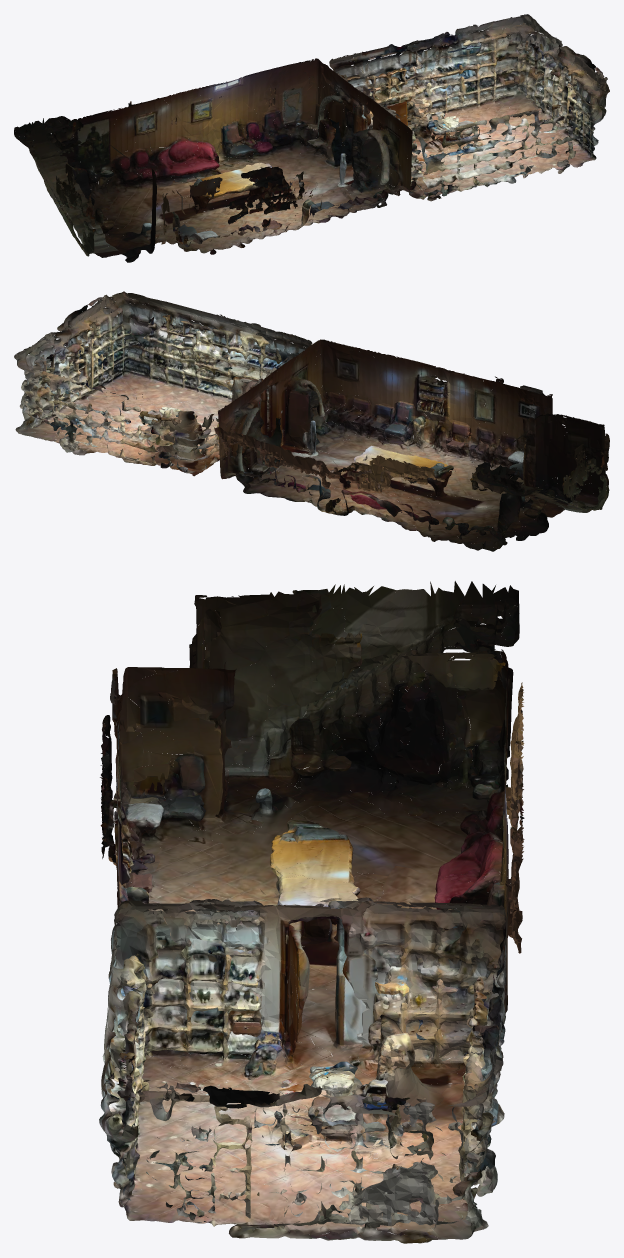
File: esc_sotanos_muros_07.glb
3 views of the same model, one above another, from view 1: azimuth 30°, elevation 25°; view 2: azimuth 150°, elevation 25°; view 3: azimuth 270°, elevation 25° (orthographic). The views are drawn at different scales.
Visible parts, largest first — view 1: muros_Apartamento_y_bodega_7_GLTF_11, muros_Apartamento_y_bodega_7_GLTF_10, muros_Apartamento_y_bodega_7_GLTF_4, muros_Apartamento_y_bodega_7_GLTF_9, muros_Apartamento_y_bodega_7_GLTF_6, muros_Apartamento_y_bodega_7_GLTF_2, muros_Apartamento_y_bodega_7_GLTF_5, muros_Apartamento_y_bodega_7_GLTF_7, muros_Apartamento_y_bodega_7_GLTF_1, muros_Apartamento_y_bodega_7_GLTF_3, muros_Apartamento_y_bodega_7_GLTF_8, muros_Apartamento_y_bodega_7_GLTF; view 2: muros_Apartamento_y_bodega_7_GLTF_11, muros_Apartamento_y_bodega_7_GLTF_10, muros_Apartamento_y_bodega_7_GLTF_9, muros_Apartamento_y_bodega_7_GLTF_3, muros_Apartamento_y_bodega_7_GLTF_6, muros_Apartamento_y_bodega_7_GLTF_7, muros_Apartamento_y_bodega_7_GLTF_2, muros_Apartamento_y_bodega_7_GLTF_4, muros_Apartamento_y_bodega_7_GLTF_1, muros_Apartamento_y_bodega_7_GLTF, muros_Apartamento_y_bodega_7_GLTF_5, muros_Apartamento_y_bodega_7_GLTF_8; view 3: muros_Apartamento_y_bodega_7_GLTF_11, muros_Apartamento_y_bodega_7_GLTF_10, muros_Apartamento_y_bodega_7_GLTF_4, muros_Apartamento_y_bodega_7_GLTF_6, muros_Apartamento_y_bodega_7_GLTF_9, muros_Apartamento_y_bodega_7_GLTF_3, muros_Apartamento_y_bodega_7_GLTF_7, muros_Apartamento_y_bodega_7_GLTF_8, muros_Apartamento_y_bodega_7_GLTF_2, muros_Apartamento_y_bodega_7_GLTF, muros_Apartamento_y_bodega_7_GLTF_5, muros_Apartamento_y_bodega_7_GLTF_1.
Boxes of the visible parts, left/top/right/bottom form: muros_Apartamento_y_bodega_7_GLTF_11: left=14, top=14, right=606, bottom=262; muros_Apartamento_y_bodega_7_GLTF_10: left=14, top=36, right=598, bottom=256; muros_Apartamento_y_bodega_7_GLTF_4: left=30, top=35, right=607, bottom=247; muros_Apartamento_y_bodega_7_GLTF_9: left=25, top=44, right=609, bottom=254; muros_Apartamento_y_bodega_7_GLTF_6: left=68, top=37, right=580, bottom=244; muros_Apartamento_y_bodega_7_GLTF_2: left=26, top=16, right=600, bottom=251; muros_Apartamento_y_bodega_7_GLTF_5: left=14, top=22, right=601, bottom=251; muros_Apartamento_y_bodega_7_GLTF_7: left=49, top=31, right=586, bottom=246; muros_Apartamento_y_bodega_7_GLTF_1: left=27, top=21, right=604, bottom=243; muros_Apartamento_y_bodega_7_GLTF_3: left=25, top=17, right=596, bottom=249; muros_Apartamento_y_bodega_7_GLTF_8: left=60, top=18, right=589, bottom=257; muros_Apartamento_y_bodega_7_GLTF: left=60, top=40, right=606, bottom=253; muros_Apartamento_y_bodega_7_GLTF_11: left=14, top=294, right=609, bottom=550; muros_Apartamento_y_bodega_7_GLTF_10: left=15, top=312, right=609, bottom=544; muros_Apartamento_y_bodega_7_GLTF_9: left=28, top=291, right=591, bottom=534; muros_Apartamento_y_bodega_7_GLTF_3: left=48, top=298, right=604, bottom=527; muros_Apartamento_y_bodega_7_GLTF_6: left=26, top=321, right=568, bottom=548; muros_Apartamento_y_bodega_7_GLTF_7: left=20, top=317, right=588, bottom=551; muros_Apartamento_y_bodega_7_GLTF_2: left=14, top=300, right=590, bottom=539; muros_Apartamento_y_bodega_7_GLTF_4: left=17, top=294, right=595, bottom=548; muros_Apartamento_y_bodega_7_GLTF_1: left=23, top=297, right=607, bottom=547; muros_Apartamento_y_bodega_7_GLTF: left=27, top=295, right=606, bottom=532; muros_Apartamento_y_bodega_7_GLTF_5: left=17, top=300, right=572, bottom=531; muros_Apartamento_y_bodega_7_GLTF_8: left=22, top=291, right=606, bottom=523; muros_Apartamento_y_bodega_7_GLTF_11: left=99, top=590, right=524, bottom=1243; muros_Apartamento_y_bodega_7_GLTF_10: left=99, top=596, right=522, bottom=1243; muros_Apartamento_y_bodega_7_GLTF_4: left=110, top=581, right=511, bottom=1234; muros_Apartamento_y_bodega_7_GLTF_6: left=107, top=589, right=520, bottom=1239; muros_Apartamento_y_bodega_7_GLTF_9: left=103, top=623, right=524, bottom=1232; muros_Apartamento_y_bodega_7_GLTF_3: left=100, top=609, right=523, bottom=1218; muros_Apartamento_y_bodega_7_GLTF_7: left=108, top=584, right=511, bottom=1201; muros_Apartamento_y_bodega_7_GLTF_8: left=102, top=591, right=522, bottom=1228; muros_Apartamento_y_bodega_7_GLTF_2: left=101, top=604, right=514, bottom=1220; muros_Apartamento_y_bodega_7_GLTF: left=100, top=591, right=523, bottom=1225; muros_Apartamento_y_bodega_7_GLTF_5: left=114, top=581, right=523, bottom=1217; muros_Apartamento_y_bodega_7_GLTF_1: left=101, top=605, right=523, bottom=1239.
Size of the model in its own units: 17.74 by 2.95 by 6.36.
12 materials, 12 textured.
